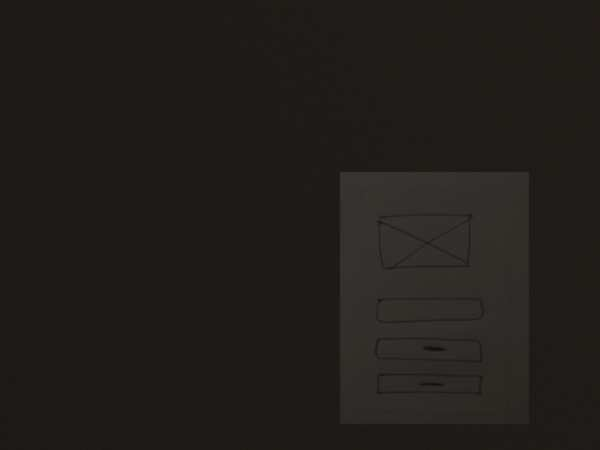button: (372, 334, 485, 367), (374, 372, 485, 400)
image: (376, 210, 476, 273)
text_input: (372, 294, 486, 330)
